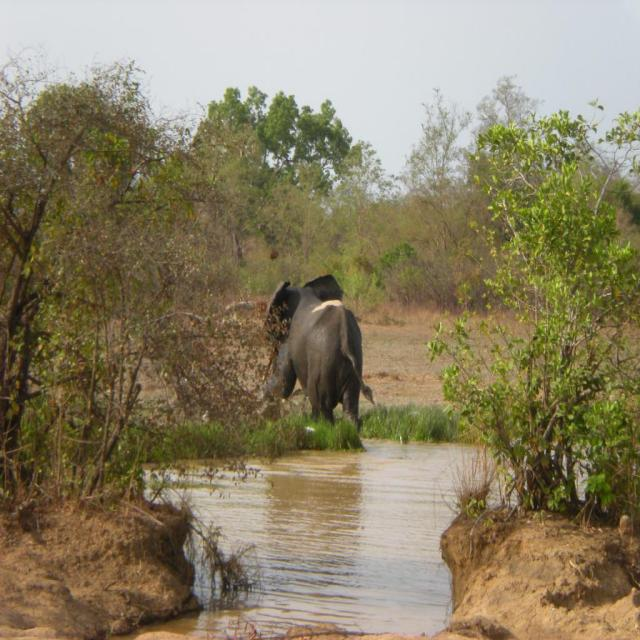Elephant: (262, 272, 375, 433)
